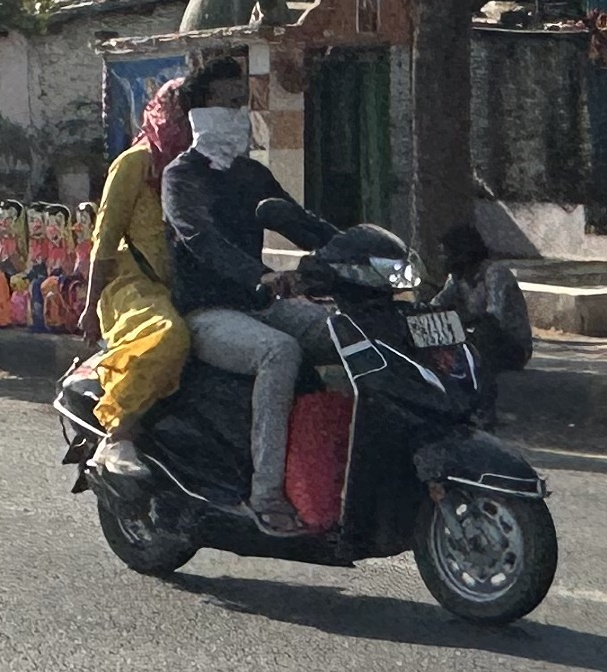BikeWithRider: (49, 53, 568, 636)
NoHelmet: (174, 53, 259, 162), (143, 69, 217, 162)
